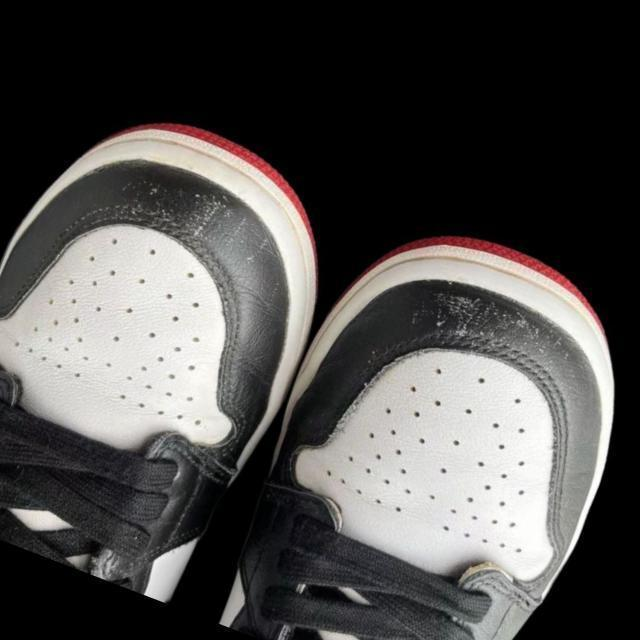nike original jordan 1: (0, 75, 377, 621), (203, 192, 640, 640)
